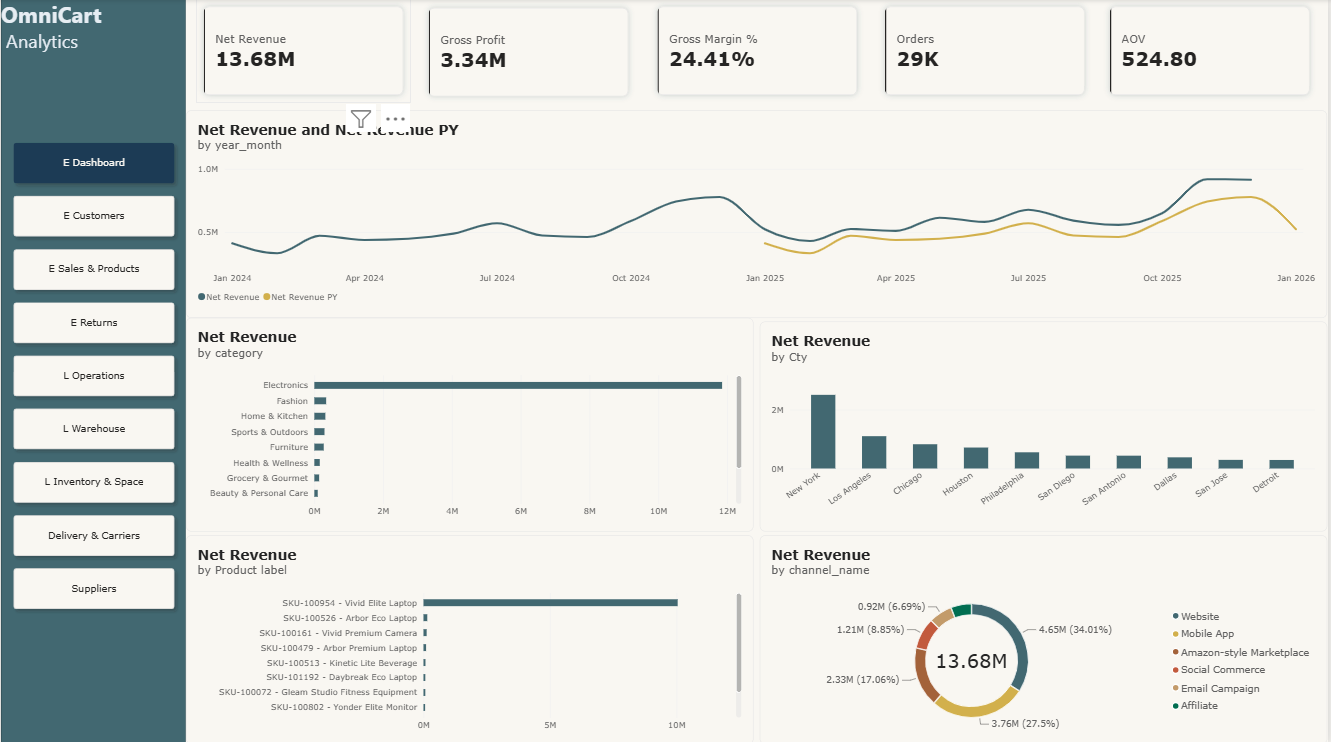

The page's visual inventory and layout, read from the dashboard file:
{"tool":"powerbi","page":{"name":"E Dashboard","canvas":[1920,1080],"ordinal":0},"visuals":[{"type":"shape","box":[0,0,267.6,1080.6],"z":0,"group":"g1"},{"type":"lineChart","fields":{"Category":["dim_date.year_month"],"Y":["_Measures.Net Revenue","_Measures.Net Revenue PY"]},"box":[267.8,161.1,1652.2,300.4],"z":0},{"type":"textbox","box":[0,0,267.6,105],"z":1000,"group":"g1"},{"type":"barChart","fields":{"Category":["dim_product.category"],"Y":["_Measures.Net Revenue"]},"box":[267.8,461.5,821.6,309.5],"z":1000},{"type":"pageNavigator","box":[9,199.1,251.5,698.5],"z":2000,"group":"g1"},{"type":"clusteredBarChart","fields":{"Category":["dim_product.Product label"],"Y":["_Measures.Net Revenue"]},"box":[267.8,776.3,821.6,304],"z":2000},{"type":"columnChart","fields":{"Category":["dim_customer.city"],"Y":["_Measures.Net Revenue"]},"box":[1098.5,466.9,821.6,304],"z":3000},{"type":"donutChart","fields":{"Category":["dim_channel.channel_name"],"Y":["_Measures.Net Revenue"]},"box":[1098.5,776.3,821.6,304],"z":4000},{"type":"cardVisual","fields":{"Data":["_Measures.Net Revenue"]},"box":[282.3,0,311.3,150.2],"z":5000},{"type":"cardVisual","fields":{"Data":["_Measures.AOV"]},"box":[1594.3,0,311.3,150.2],"z":6000},{"type":"cardVisual","fields":{"Data":["_Measures.Gross Profit"]},"box":[608,1.8,311.3,150.2],"z":7000},{"type":"cardVisual","fields":{"Data":["_Measures.Gross Margin %"]},"box":[939.2,0,311.3,150.2],"z":8000},{"type":"cardVisual","fields":{"Data":["_Measures.Orders"]},"box":[1268.6,0,311.3,150.2],"z":9000},{"type":"group","id":"g1","title":"Group 1","box":[0,0,267.6,1080.6],"z":10000}]}

Visuals, with their boxes in screenshot pixels (x1, y1, x2, y2), scaled from the page's 1920x1080 canvas onto the 1331x742 screenshot:
shape: box=[0, 0, 186, 741]
lineChart - dim_date.year_month x _Measures.Net Revenue: box=[186, 111, 1330, 317]
textbox: box=[0, 0, 186, 72]
barChart - dim_product.category x _Measures.Net Revenue: box=[186, 317, 755, 530]
pageNavigator: box=[6, 137, 181, 617]
clusteredBarChart - dim_product.Product label x _Measures.Net Revenue: box=[186, 533, 755, 741]
columnChart - dim_customer.city x _Measures.Net Revenue: box=[762, 321, 1330, 530]
donutChart - dim_channel.channel_name x _Measures.Net Revenue: box=[762, 533, 1330, 741]
cardVisual - _Measures.Net Revenue: box=[196, 0, 412, 103]
cardVisual - _Measures.AOV: box=[1105, 0, 1321, 103]
cardVisual - _Measures.Gross Profit: box=[421, 1, 637, 104]
cardVisual - _Measures.Gross Margin %: box=[651, 0, 867, 103]
cardVisual - _Measures.Orders: box=[879, 0, 1095, 103]
"Group 1" group: box=[0, 0, 186, 741]
